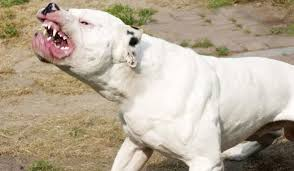dog: (31, 1, 294, 170)
